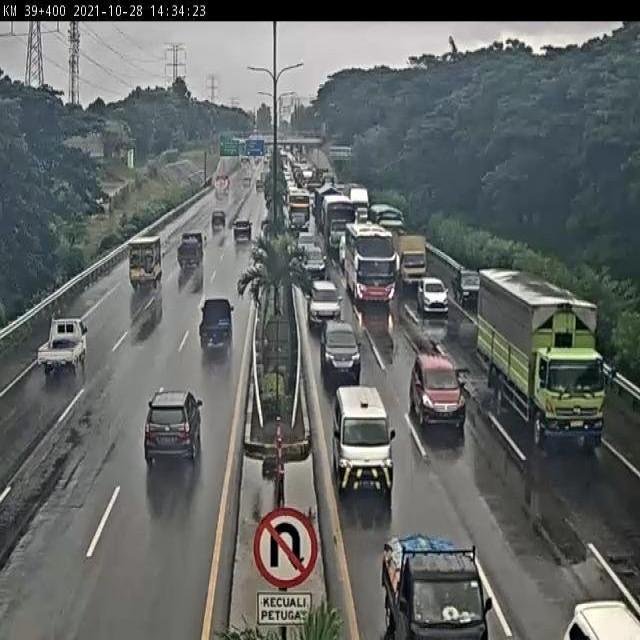big bus: (343, 225, 397, 307), (320, 190, 353, 242), (283, 195, 311, 236)
car: (380, 532, 493, 640), (333, 384, 397, 497), (407, 351, 468, 428), (146, 391, 203, 469), (320, 327, 359, 388), (307, 279, 345, 337), (452, 266, 486, 314), (411, 276, 448, 319), (295, 247, 330, 288), (233, 220, 254, 249), (292, 220, 309, 240)
small truck: (37, 313, 90, 376), (392, 227, 432, 290), (196, 294, 235, 354), (125, 240, 165, 296), (176, 229, 206, 272)
truck-l-: (474, 261, 612, 444)
